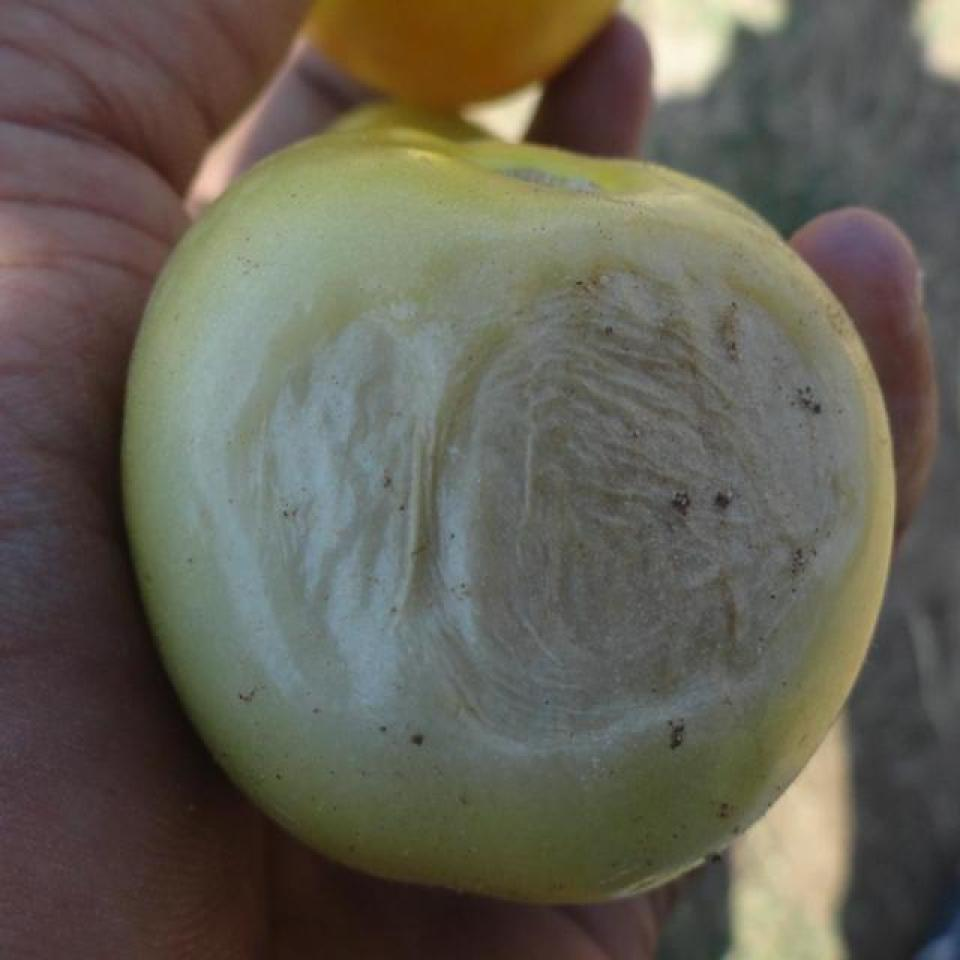Sunscald: (245, 222, 853, 806)
